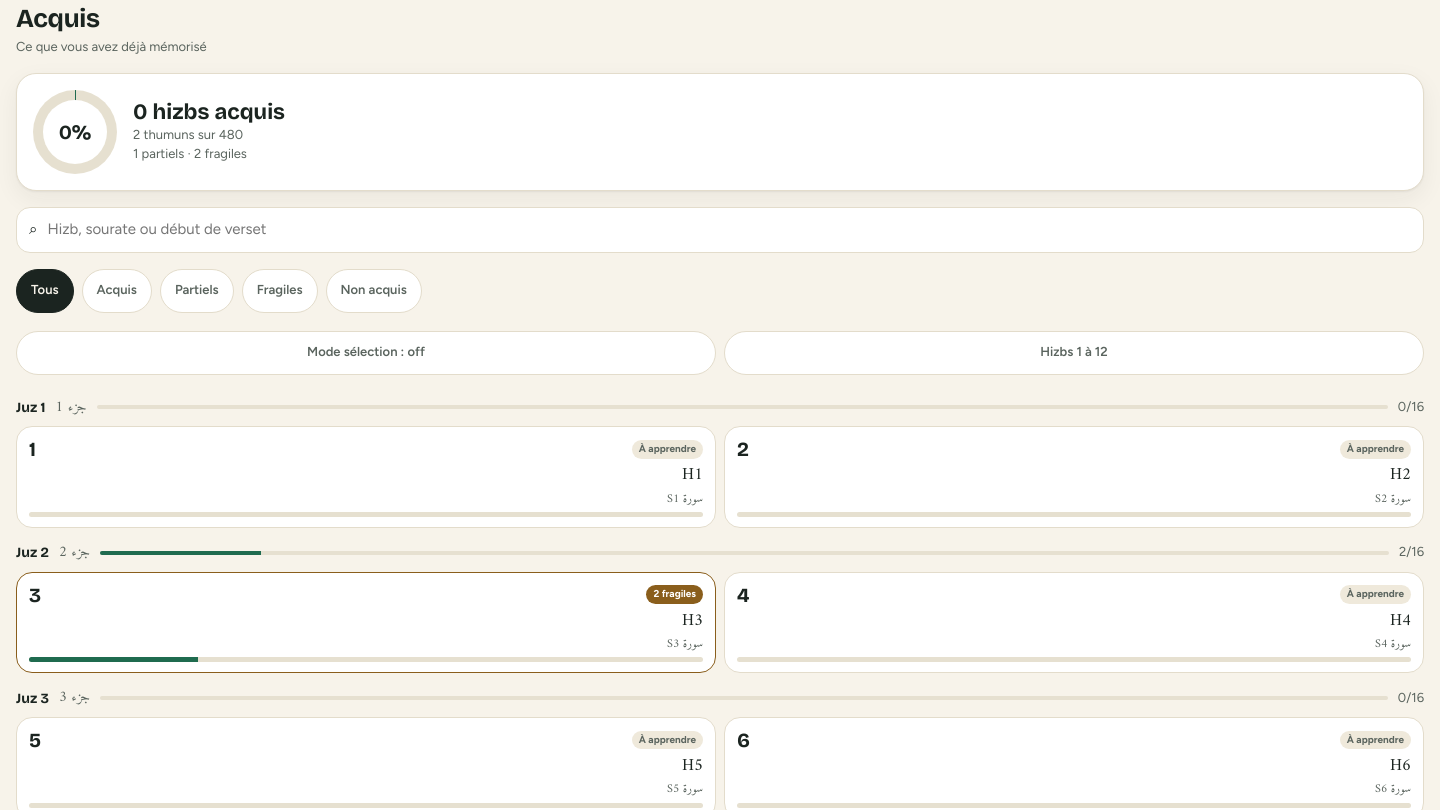
it: Acquis : appui long › enregistrer : Non, Acquis et Fragile sur des non acquis ou acquis → un SET_ACQUIS
Press the mouse on the button "3 2 fragiles H3 سورة S3" at (675,595), box [16, 572, 716, 673]
Wait 450 ms
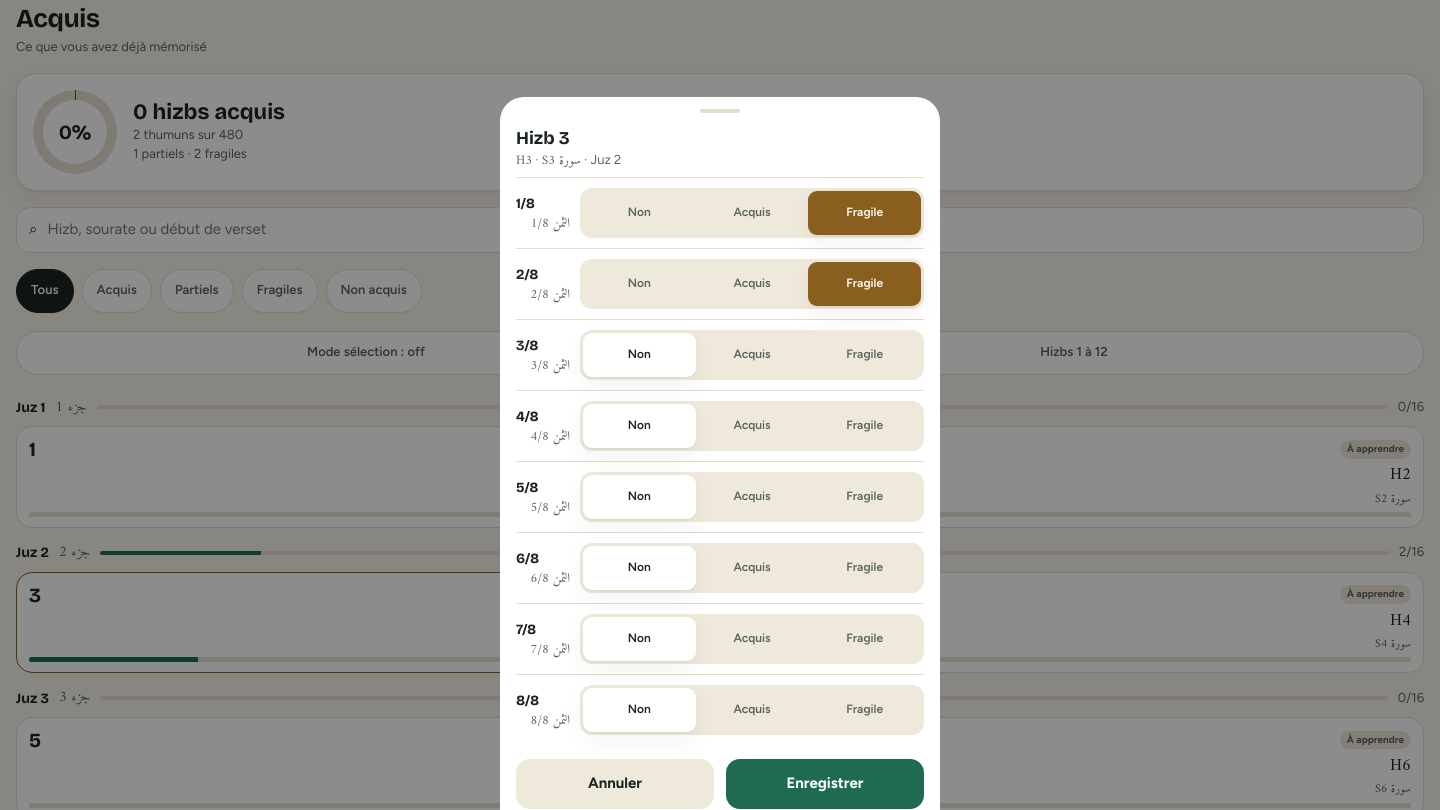
Click the button "Non" next to "الثمن 2/8" at (639,284), box [583, 262, 696, 306]
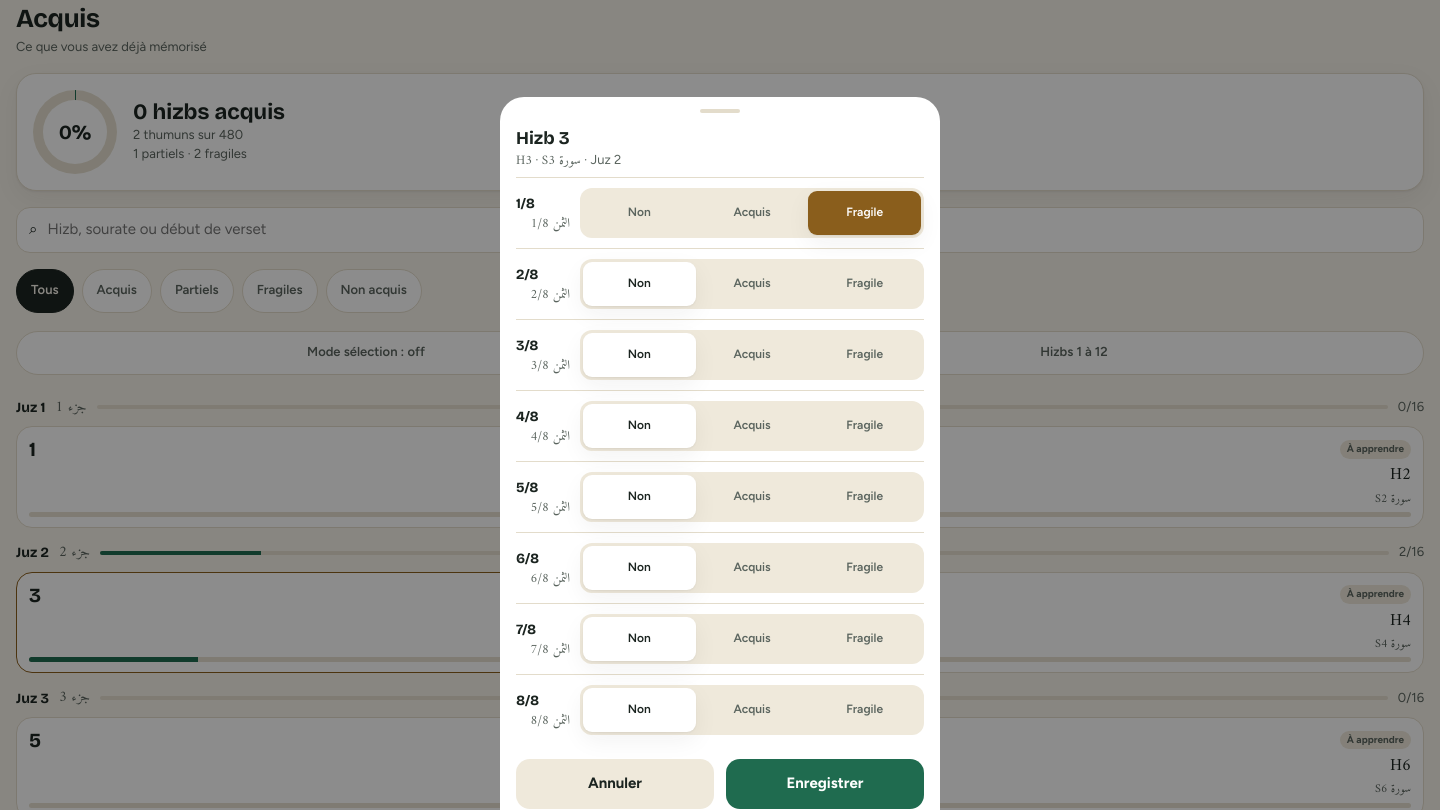
Click the button "Acquis" in the row of "الثمن 5/8" at (752,497), box [696, 475, 808, 519]
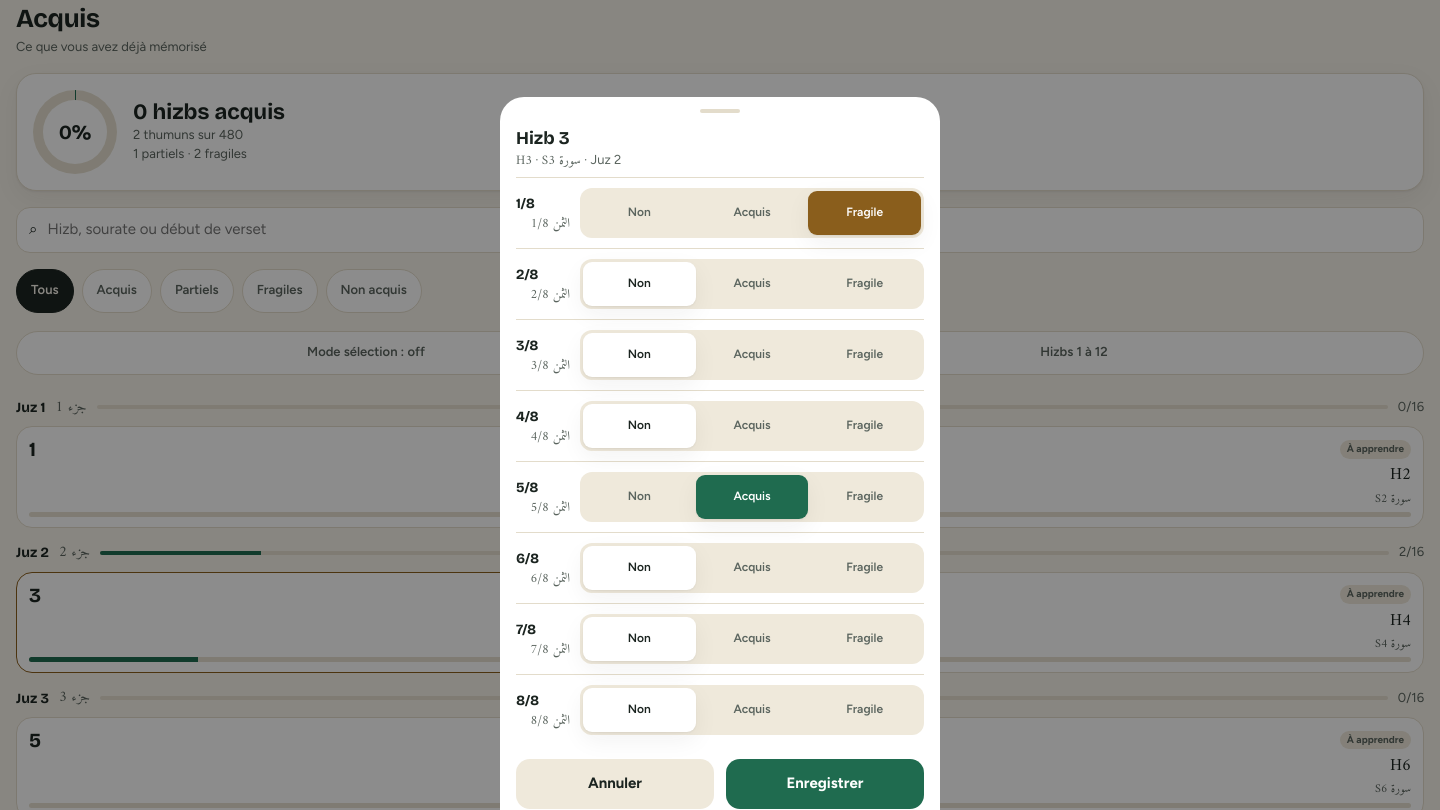
Click the button "Fragile" in the row of "الثمن 6/8" at (865,568), box [808, 546, 921, 590]
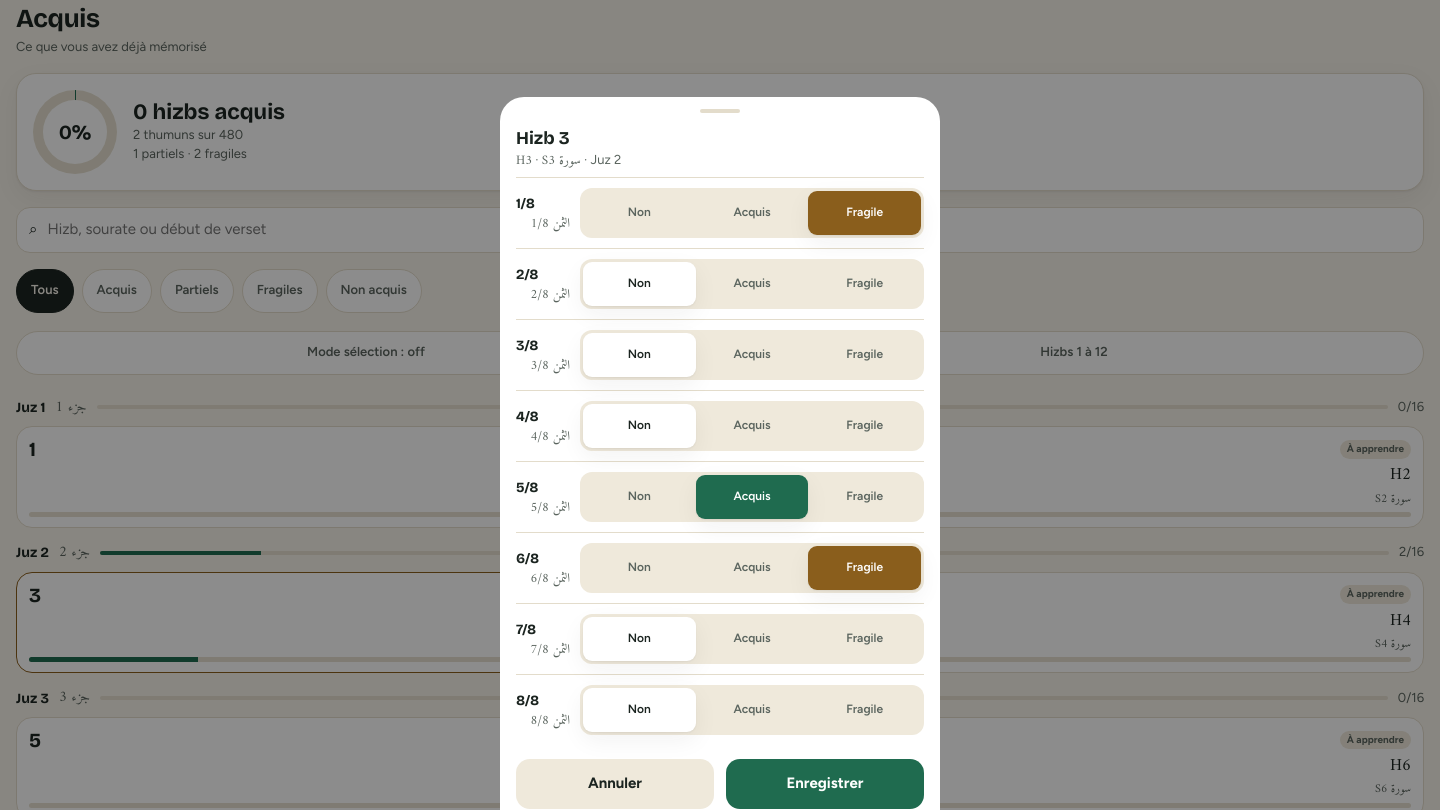
Click the button "Enregistrer" at (825,784), box [726, 759, 924, 809]
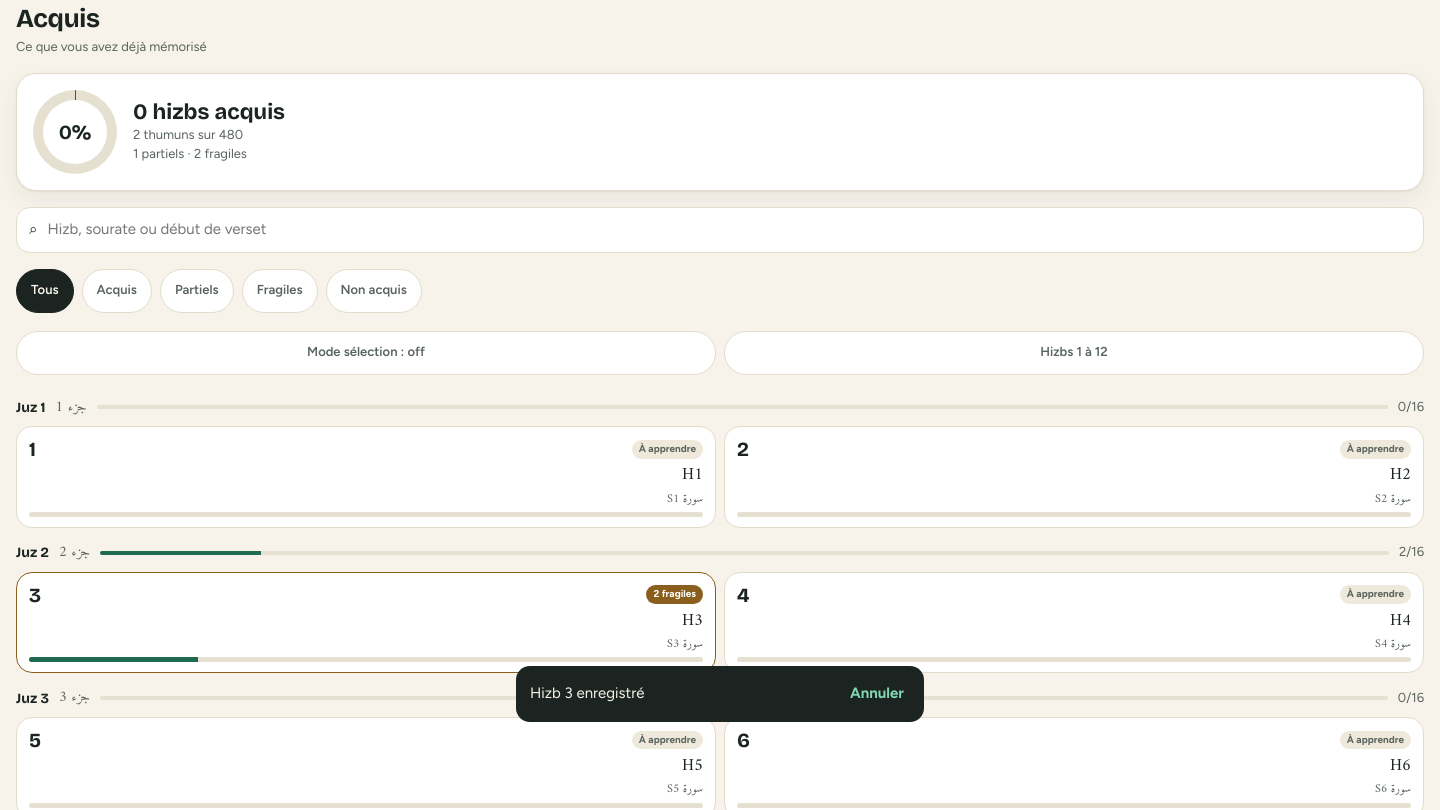
Now the dialog is gone
